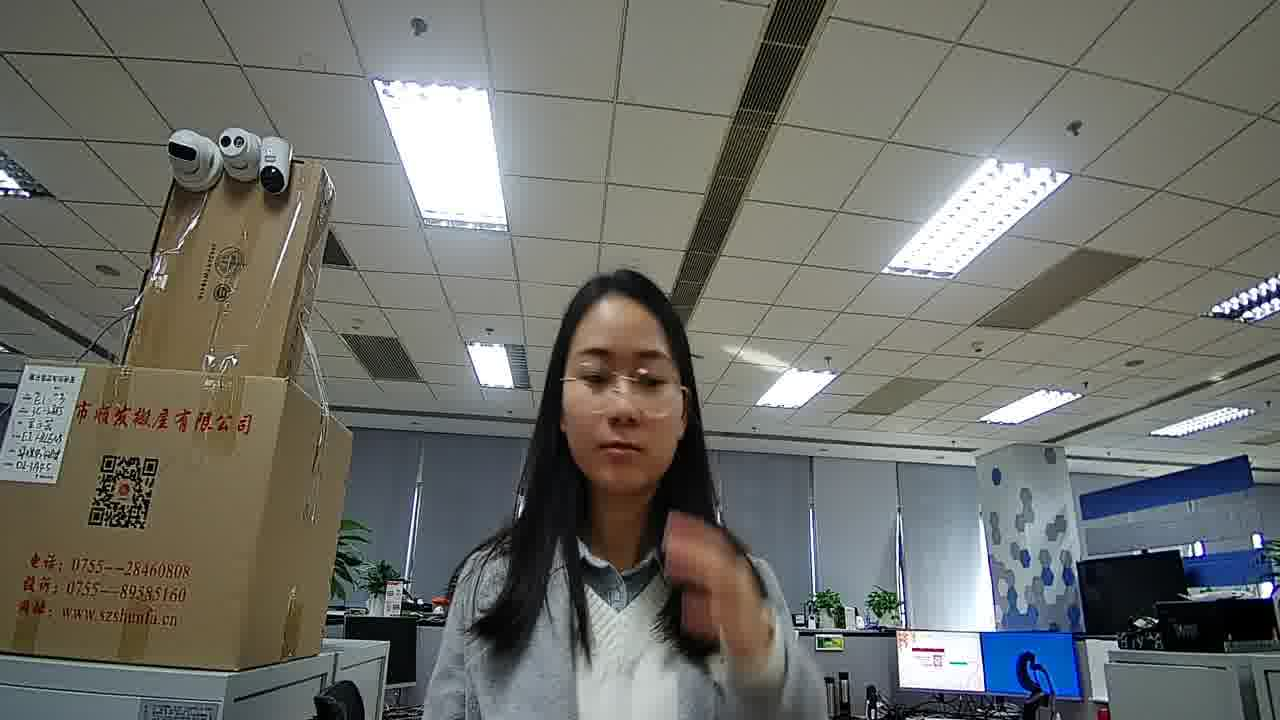face: (554, 295, 690, 495)
person: (437, 267, 794, 658)
